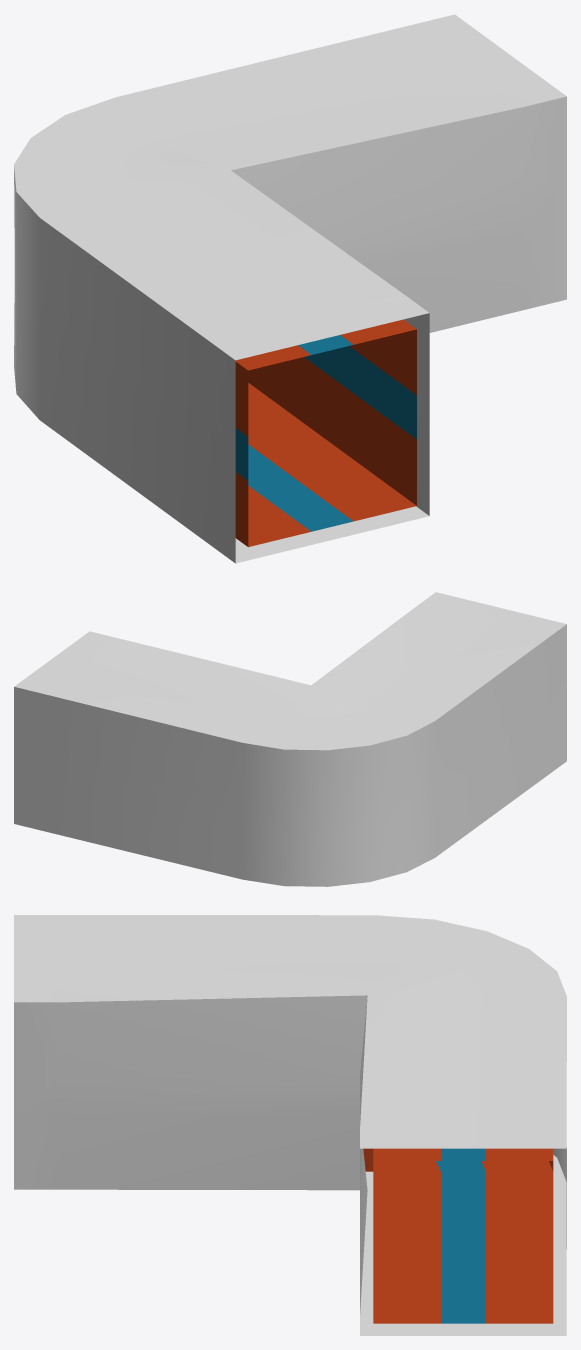
File: Cable_1.fbx
The picture shows the model from 3 angles, top to bottom: view 1: azimuth 30°, elevation 25°; view 2: azimuth 150°, elevation 25°; view 3: azimuth 270°, elevation 25°; orthographic projection. The views are drawn at different scales.
Visible parts, largest first — view 1: Cable_1; view 2: Cable_1; view 3: Cable_1.
Boxes of the visible parts, x1=… form: Cable_1: x1=14, y1=14, x2=566, y2=563; Cable_1: x1=14, y1=592, x2=566, y2=886; Cable_1: x1=14, y1=915, x2=566, y2=1335.
Bounding box in the file's own units: 1.23 × 1.23 × 0.4785.
